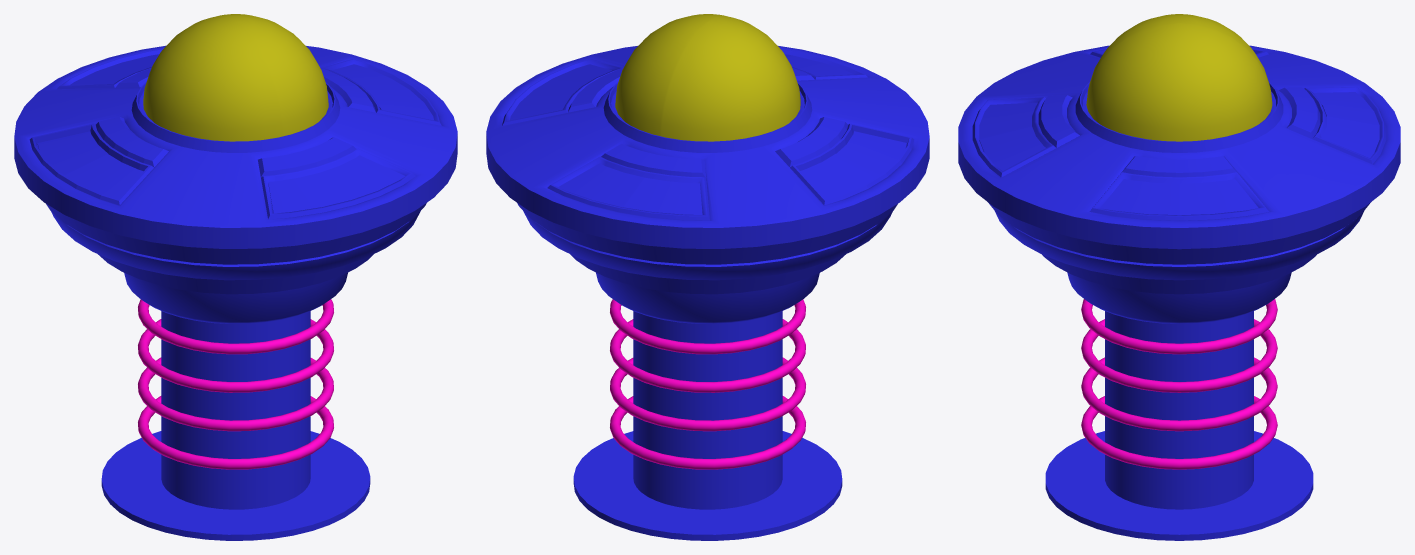
The model's file is Power Console.FBX.
3 renders of one model, left to right at view 1: azimuth 30°, elevation 25°; view 2: azimuth 150°, elevation 25°; view 3: azimuth 270°, elevation 25°, orthographic.
Visible parts, largest first — view 1: Cylinder002, Sphere001, Object010, Torus004, Torus003, Torus002, Torus001, Object005, Object006, Object009, Object004, Object002 (+2 smaller); view 2: Cylinder002, Sphere001, Object010, Torus004, Torus003, Torus002, Torus001, Object008, Object003, Object004, Object009, Object007 (+2 smaller); view 3: Cylinder002, Object010, Torus002, Torus004, Torus003, Torus001, Object007, Object002, Object006, Object003, Object005, Sphere001 (+1 smaller).
Part boxes in pixels (<box>): Cylinder002: <box>14,45,457,540</box>; Sphere001: <box>143,16,283,141</box>; Object010: <box>219,14,328,136</box>; Torus004: <box>138,396,333,469</box>; Torus003: <box>138,357,333,431</box>; Torus002: <box>138,319,333,392</box>; Torus001: <box>138,299,333,354</box>; Object005: <box>268,172,348,213</box>; Object006: <box>320,155,405,200</box>; Object009: <box>65,154,143,198</box>; Object004: <box>37,131,107,174</box>; Object002: <box>366,90,434,120</box>; Cylinder002: <box>486,46,929,540</box>; Sphere001: <box>660,16,800,141</box>; Object010: <box>615,14,724,136</box>; Torus004: <box>610,396,805,469</box>; Torus003: <box>610,357,805,431</box>; Torus002: <box>610,319,805,392</box>; Torus001: <box>610,299,805,354</box>; Object008: <box>624,177,702,214</box>; Object003: <box>559,163,644,207</box>; Object004: <box>800,154,878,198</box>; Object009: <box>836,131,906,174</box>; Object007: <box>509,90,577,120</box>; Cylinder002: <box>958,45,1400,540</box>; Object010: <box>1086,23,1272,141</box>; Torus002: <box>1081,319,1277,392</box>; Torus004: <box>1081,396,1277,469</box>; Torus003: <box>1081,357,1277,431</box>; Torus001: <box>1081,299,1277,354</box>; Object007: <box>1179,179,1258,215</box>; Object002: <box>1100,179,1179,215</box>; Object006: <box>979,126,1045,170</box>; Object003: <box>1322,116,1379,157</box>; Object005: <box>979,102,1037,139</box>; Sphere001: <box>1086,14,1271,104</box>.
Bounding box in the file's own units: 41.65 × 47.82 × 41.51.
